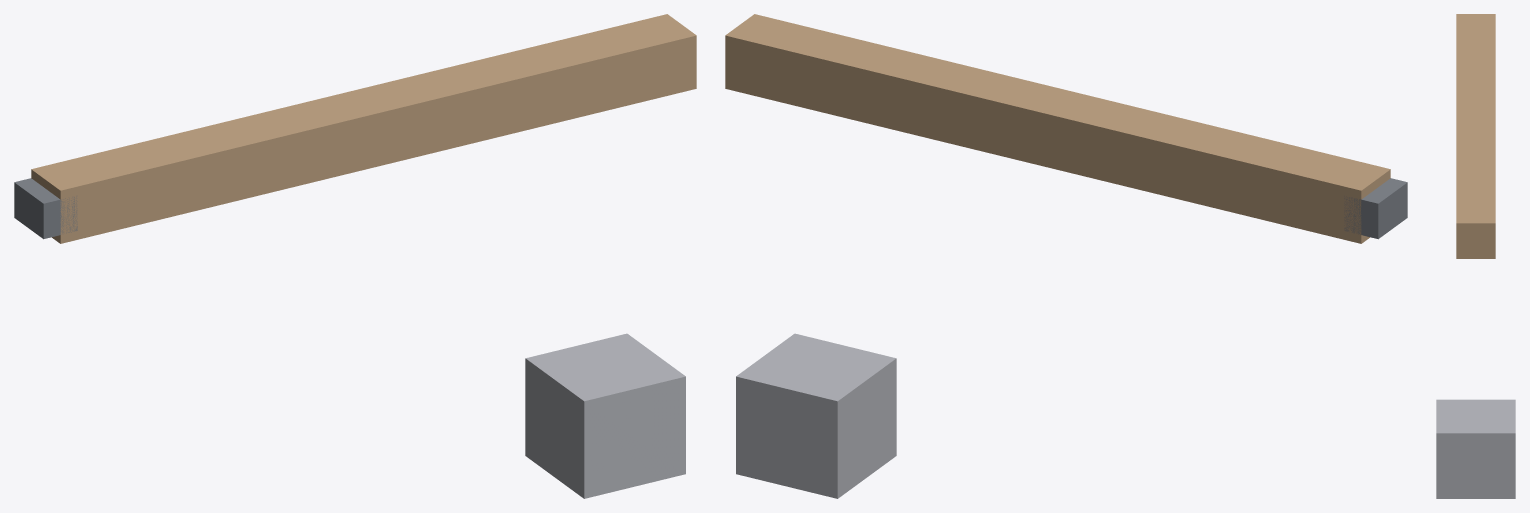
3 views of the same model, side by side, from view 1: azimuth 30°, elevation 25°; view 2: azimuth 150°, elevation 25°; view 3: azimuth 270°, elevation 25° (orthographic). The views are drawn at different scales.
Parts seen in each view (by area): view 1: swinging-rod, strike-peg, pivot-pin; view 2: swinging-rod, strike-peg, pivot-pin; view 3: swinging-rod, strike-peg.
Part boxes in pixels (x1,y1,x2,y2): swinging-rod: [31, 14, 696, 243]; strike-peg: [525, 333, 685, 498]; pivot-pin: [14, 178, 77, 239]; swinging-rod: [725, 14, 1390, 243]; strike-peg: [736, 333, 896, 498]; pivot-pin: [1344, 178, 1407, 239]; swinging-rod: [1456, 14, 1495, 258]; strike-peg: [1436, 399, 1515, 498].
Bounding box in the file's own units: 1.54 × 0.95 × 0.24.
